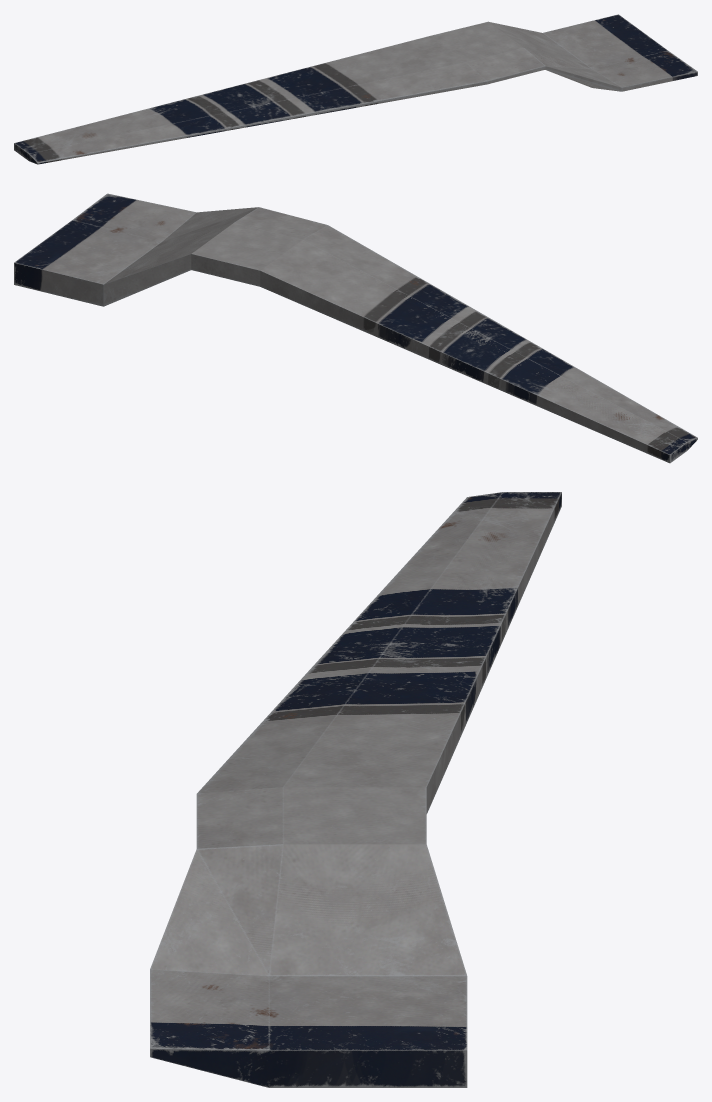
File: wing_l_3.R.fbx
3 views of the same model, one above another, from view 1: azimuth 30°, elevation 25°; view 2: azimuth 150°, elevation 25°; view 3: azimuth 270°, elevation 25° (orthographic). The views are drawn at different scales.
Visible parts, largest first — view 1: wing_l_3.R; view 2: wing_l_3.R; view 3: wing_l_3.R.
Part boxes in pixels (<box>): wing_l_3.R: <box>14,14,697,164</box>; wing_l_3.R: <box>14,193,697,463</box>; wing_l_3.R: <box>150,492,561,1087</box>.
Bounding box in the file's own units: 99.21 × 8.68 × 30.46.
